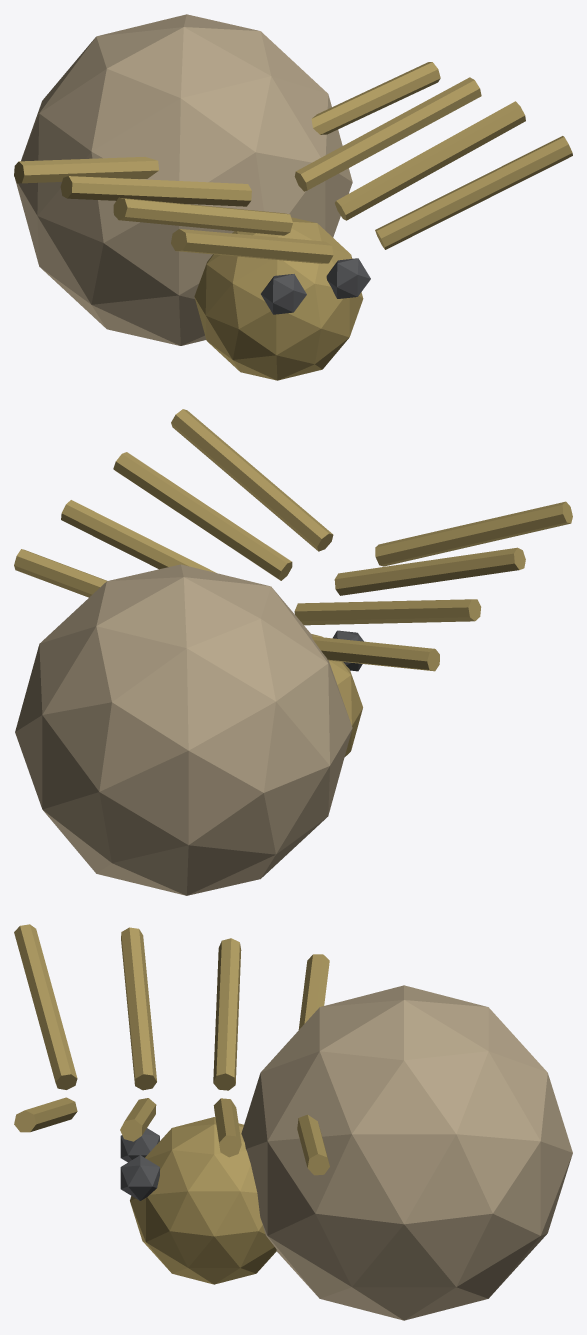
Rendered from heteropoda-venatoria.glb.
3 views of the same model, one above another, from view 1: azimuth 30°, elevation 25°; view 2: azimuth 150°, elevation 25°; view 3: azimuth 270°, elevation 25° (orthographic).
Visible parts, largest first — view 1: abdomen, cephalothorax, leg01, leg11, leg21, leg2-1, leg1-1, leg0-1, leg31, leg3-1, eye-1, eye1; view 2: abdomen, leg11, leg0-1, leg01, leg1-1, leg2-1, leg21, leg3-1, leg31, cephalothorax; view 3: abdomen, cephalothorax, leg0-1, leg1-1, leg2-1, leg3-1, leg01, eye1, leg31, leg21, leg11, eye-1.
Boxes of the visible parts, bbox=[...] form: abdomen: bbox=[15, 14, 352, 345]; cephalothorax: bbox=[194, 217, 363, 380]; leg01: bbox=[375, 136, 572, 249]; leg11: bbox=[335, 101, 525, 220]; leg21: bbox=[294, 77, 481, 191]; leg2-1: bbox=[60, 176, 251, 206]; leg1-1: bbox=[113, 197, 292, 235]; leg0-1: bbox=[171, 229, 333, 263]; leg31: bbox=[311, 62, 440, 134]; leg3-1: bbox=[14, 157, 158, 183]; eye-1: bbox=[261, 274, 306, 314]; eye1: bbox=[326, 258, 370, 298]; abdomen: bbox=[15, 564, 352, 895]; leg11: bbox=[113, 452, 292, 580]; leg0-1: bbox=[375, 501, 572, 566]; leg01: bbox=[171, 409, 333, 551]; leg1-1: bbox=[334, 547, 525, 595]; leg2-1: bbox=[294, 599, 481, 625]; leg21: bbox=[61, 500, 215, 572]; leg3-1: bbox=[311, 636, 439, 671]; leg31: bbox=[14, 549, 106, 597]; cephalothorax: bbox=[311, 634, 362, 756]; abdomen: bbox=[241, 985, 572, 1320]; cephalothorax: bbox=[130, 1117, 276, 1284]; leg0-1: bbox=[14, 924, 77, 1089]; leg1-1: bbox=[121, 927, 156, 1090]; leg2-1: bbox=[213, 938, 241, 1090]; leg3-1: bbox=[298, 954, 329, 1029]; leg01: bbox=[14, 1097, 77, 1132]; eye1: bbox=[120, 1155, 159, 1200]; leg31: bbox=[297, 1114, 329, 1175]; leg21: bbox=[213, 1098, 241, 1157]; leg11: bbox=[120, 1098, 156, 1141]; eye-1: bbox=[120, 1128, 159, 1162].
Bounding box in the file's own units: 0.4572 × 0.32 × 0.5297.
